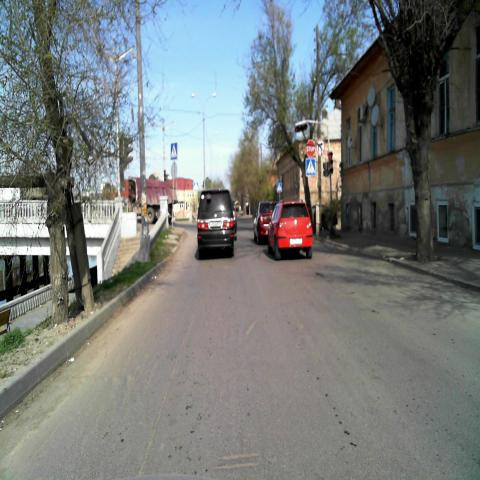3_18: (316, 138, 326, 156)
